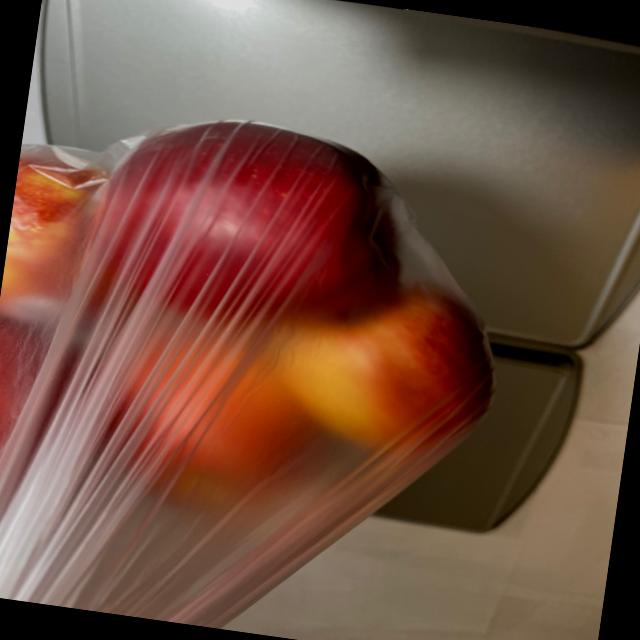apple: (0, 86, 525, 576)
